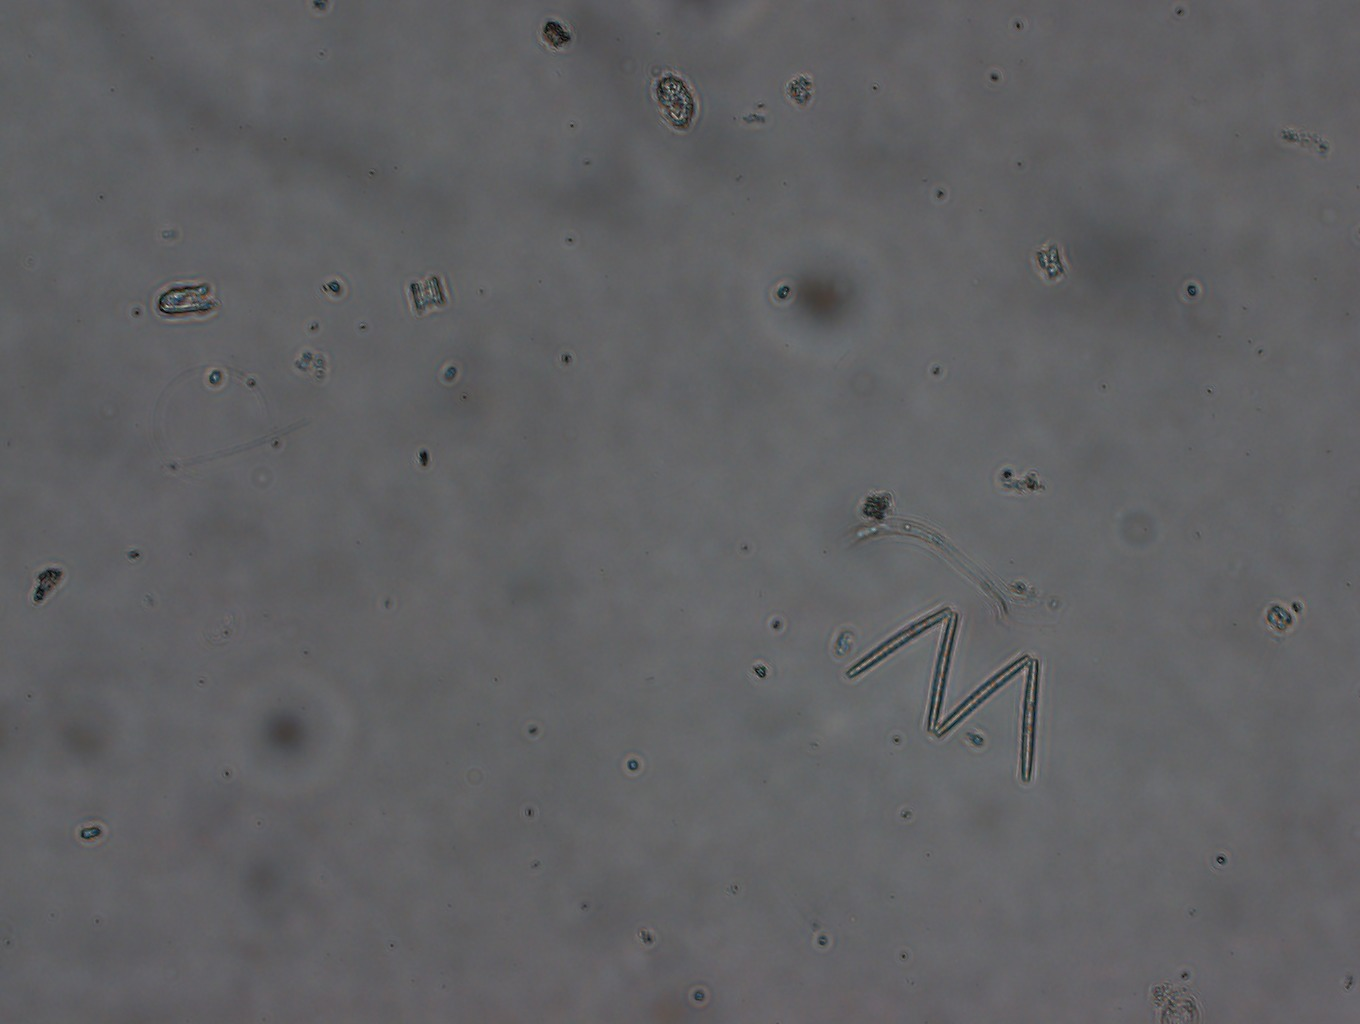thalassionema nitzschioides: (842, 608, 1045, 785)
